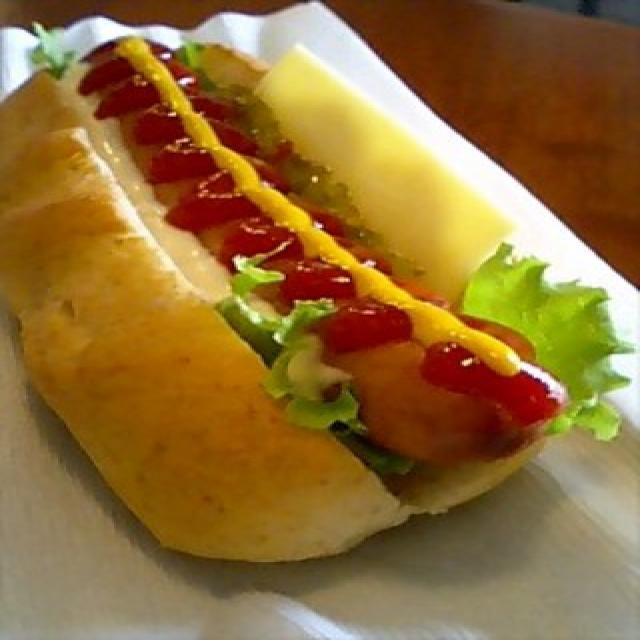Hot Dog: (0, 20, 632, 576)
